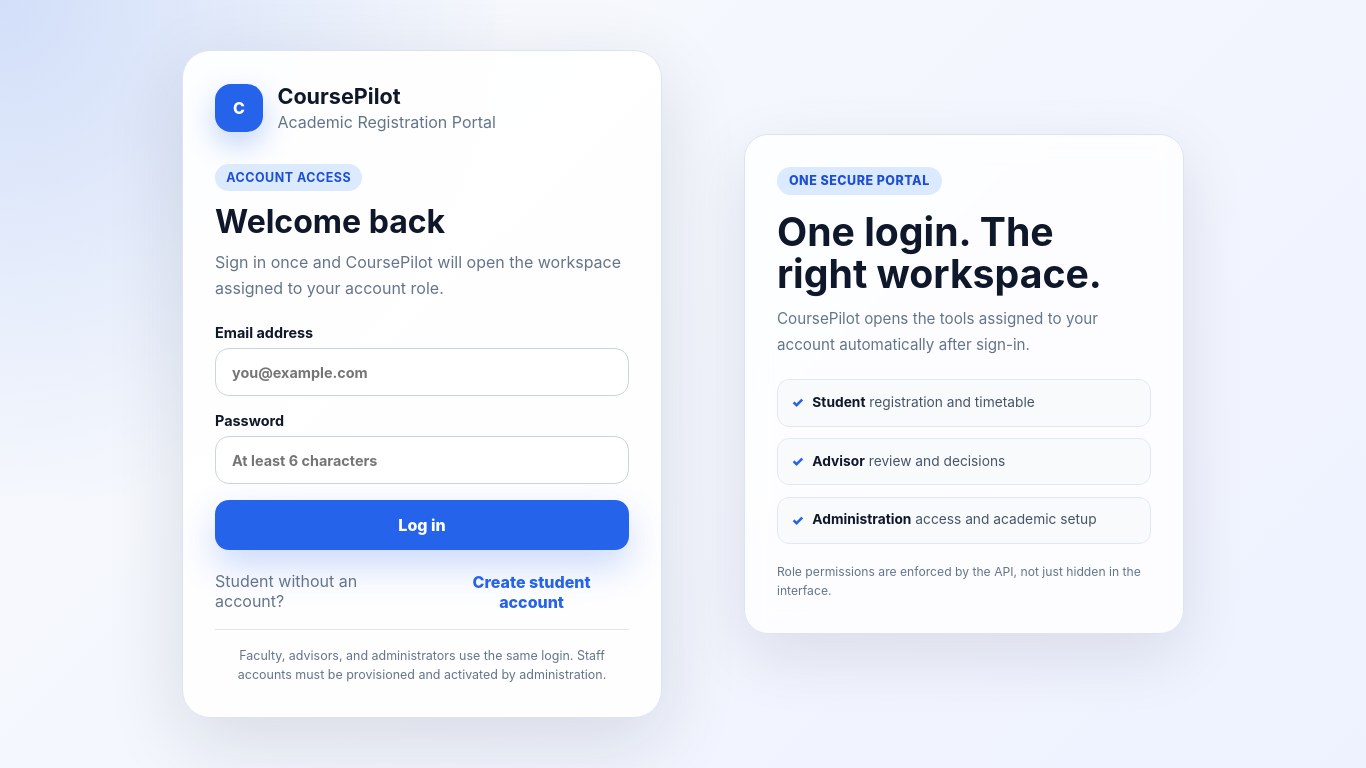
Test: LoginPage › blocks malformed email before authentication is requested
Type "not-an-email" into the field labelled "Email address". click: (422, 372)
box: 215,348 -> 629,396
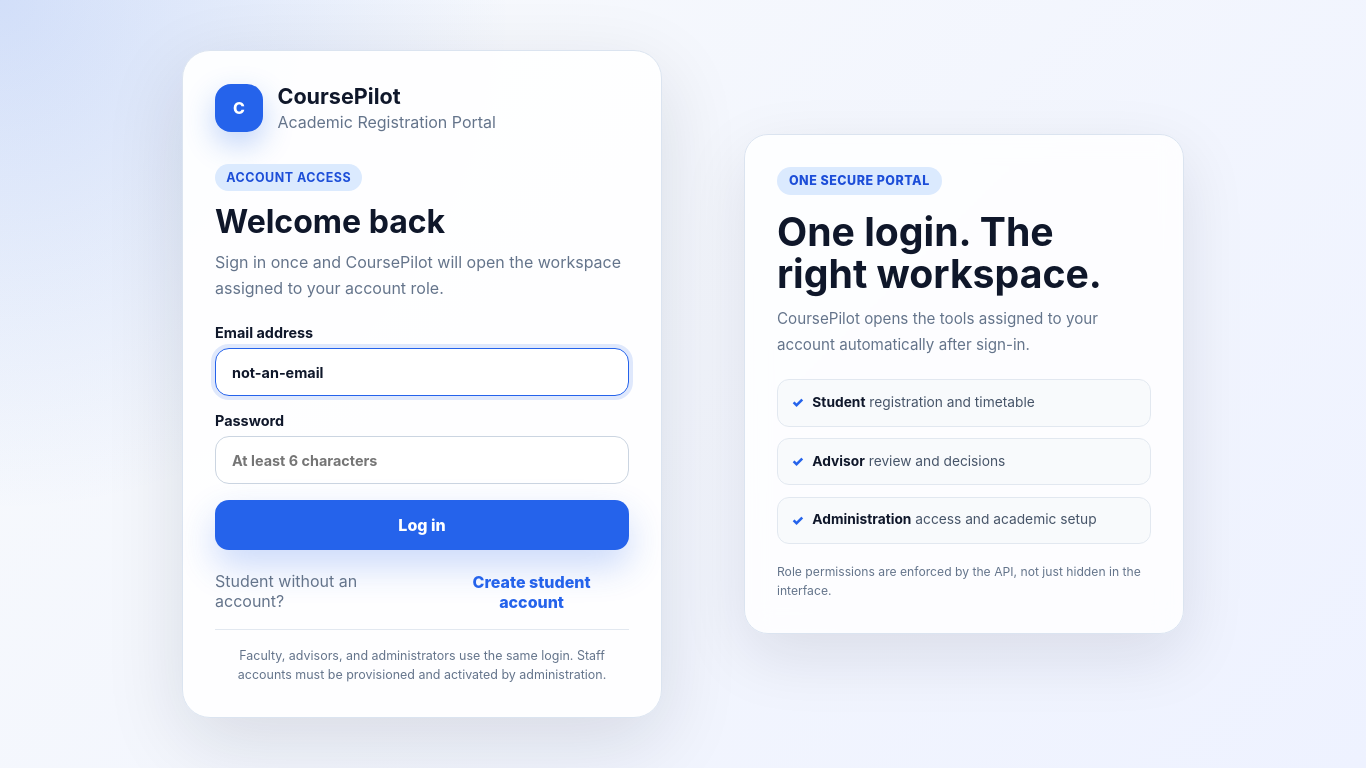
Type "secret1" into the password field labelled "Password". click: (422, 460)
box: 215,436 -> 629,484
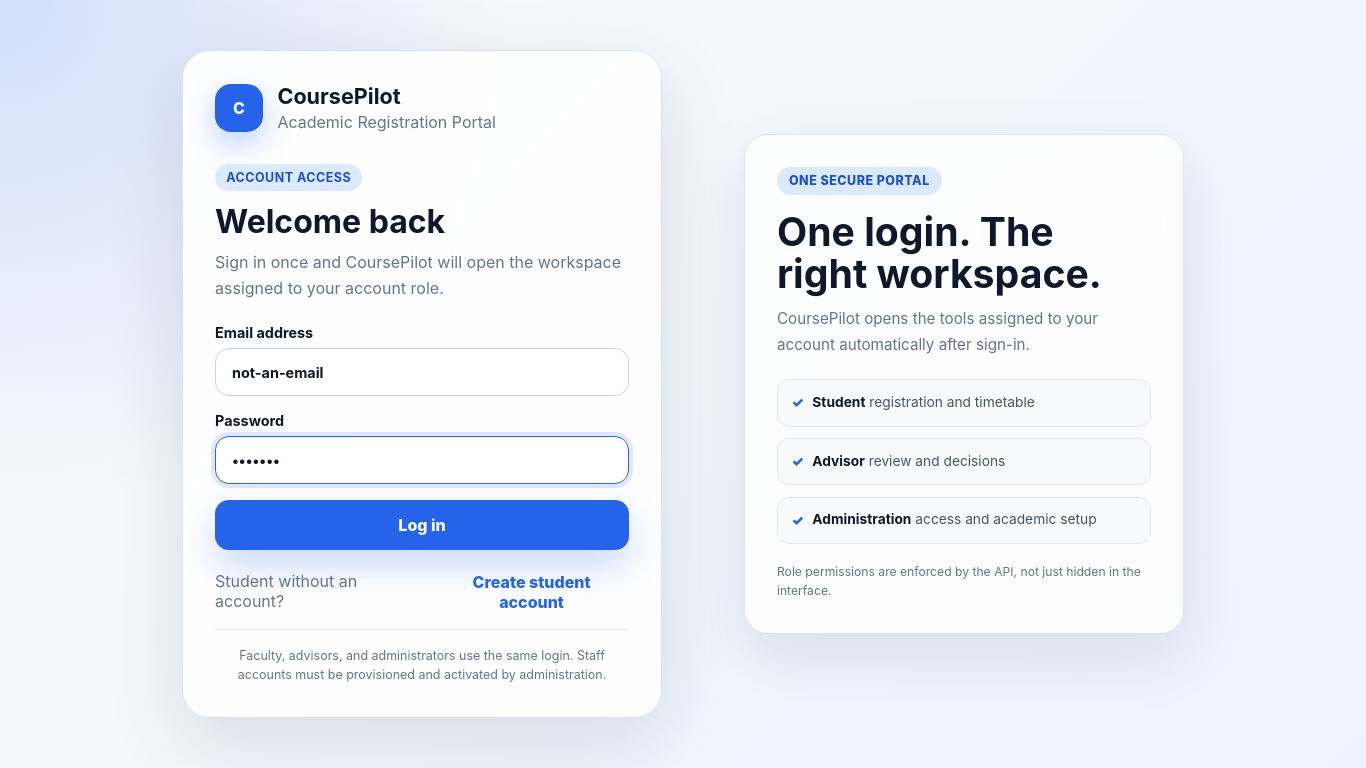
Click the button "Log in". click: click(422, 525)
box: 215,500 -> 629,550
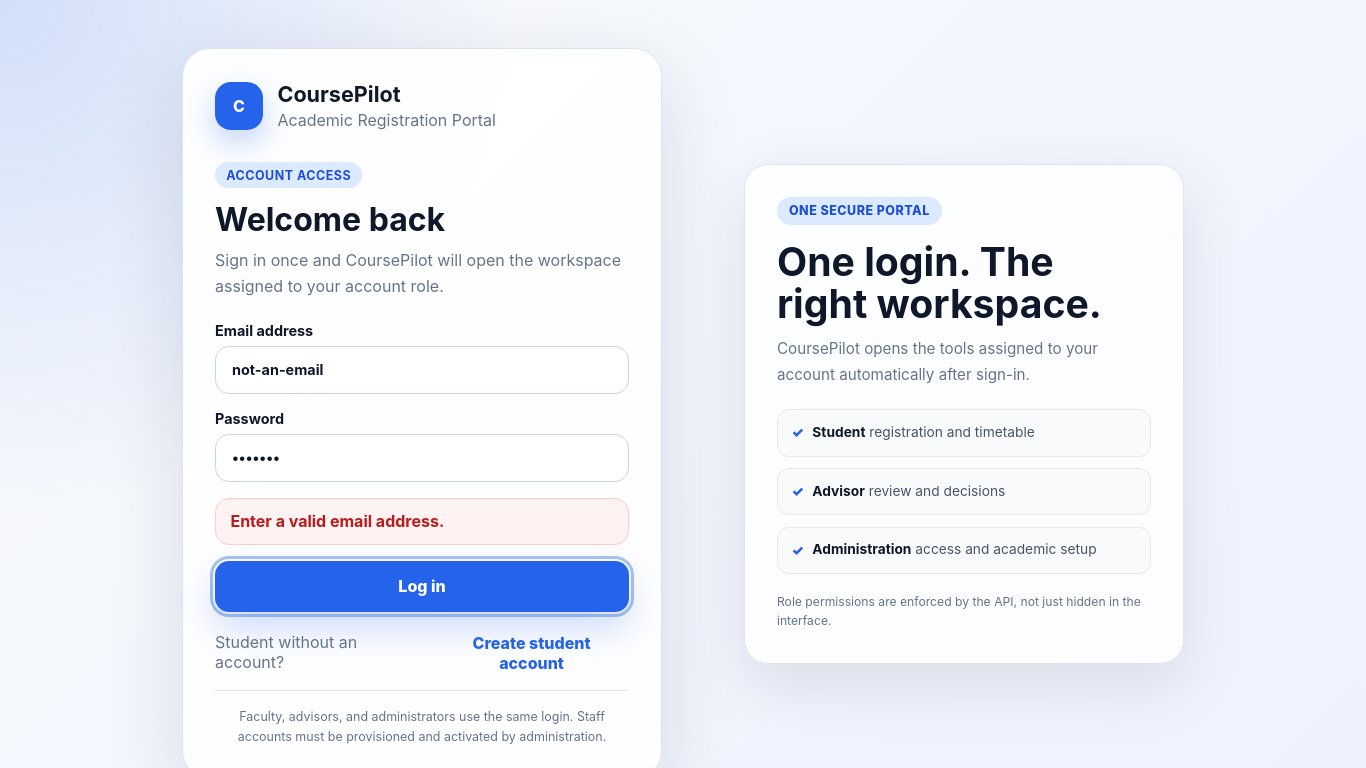
Expected: the message reads "Enter a valid email address.", 230,512 -> 444,532
